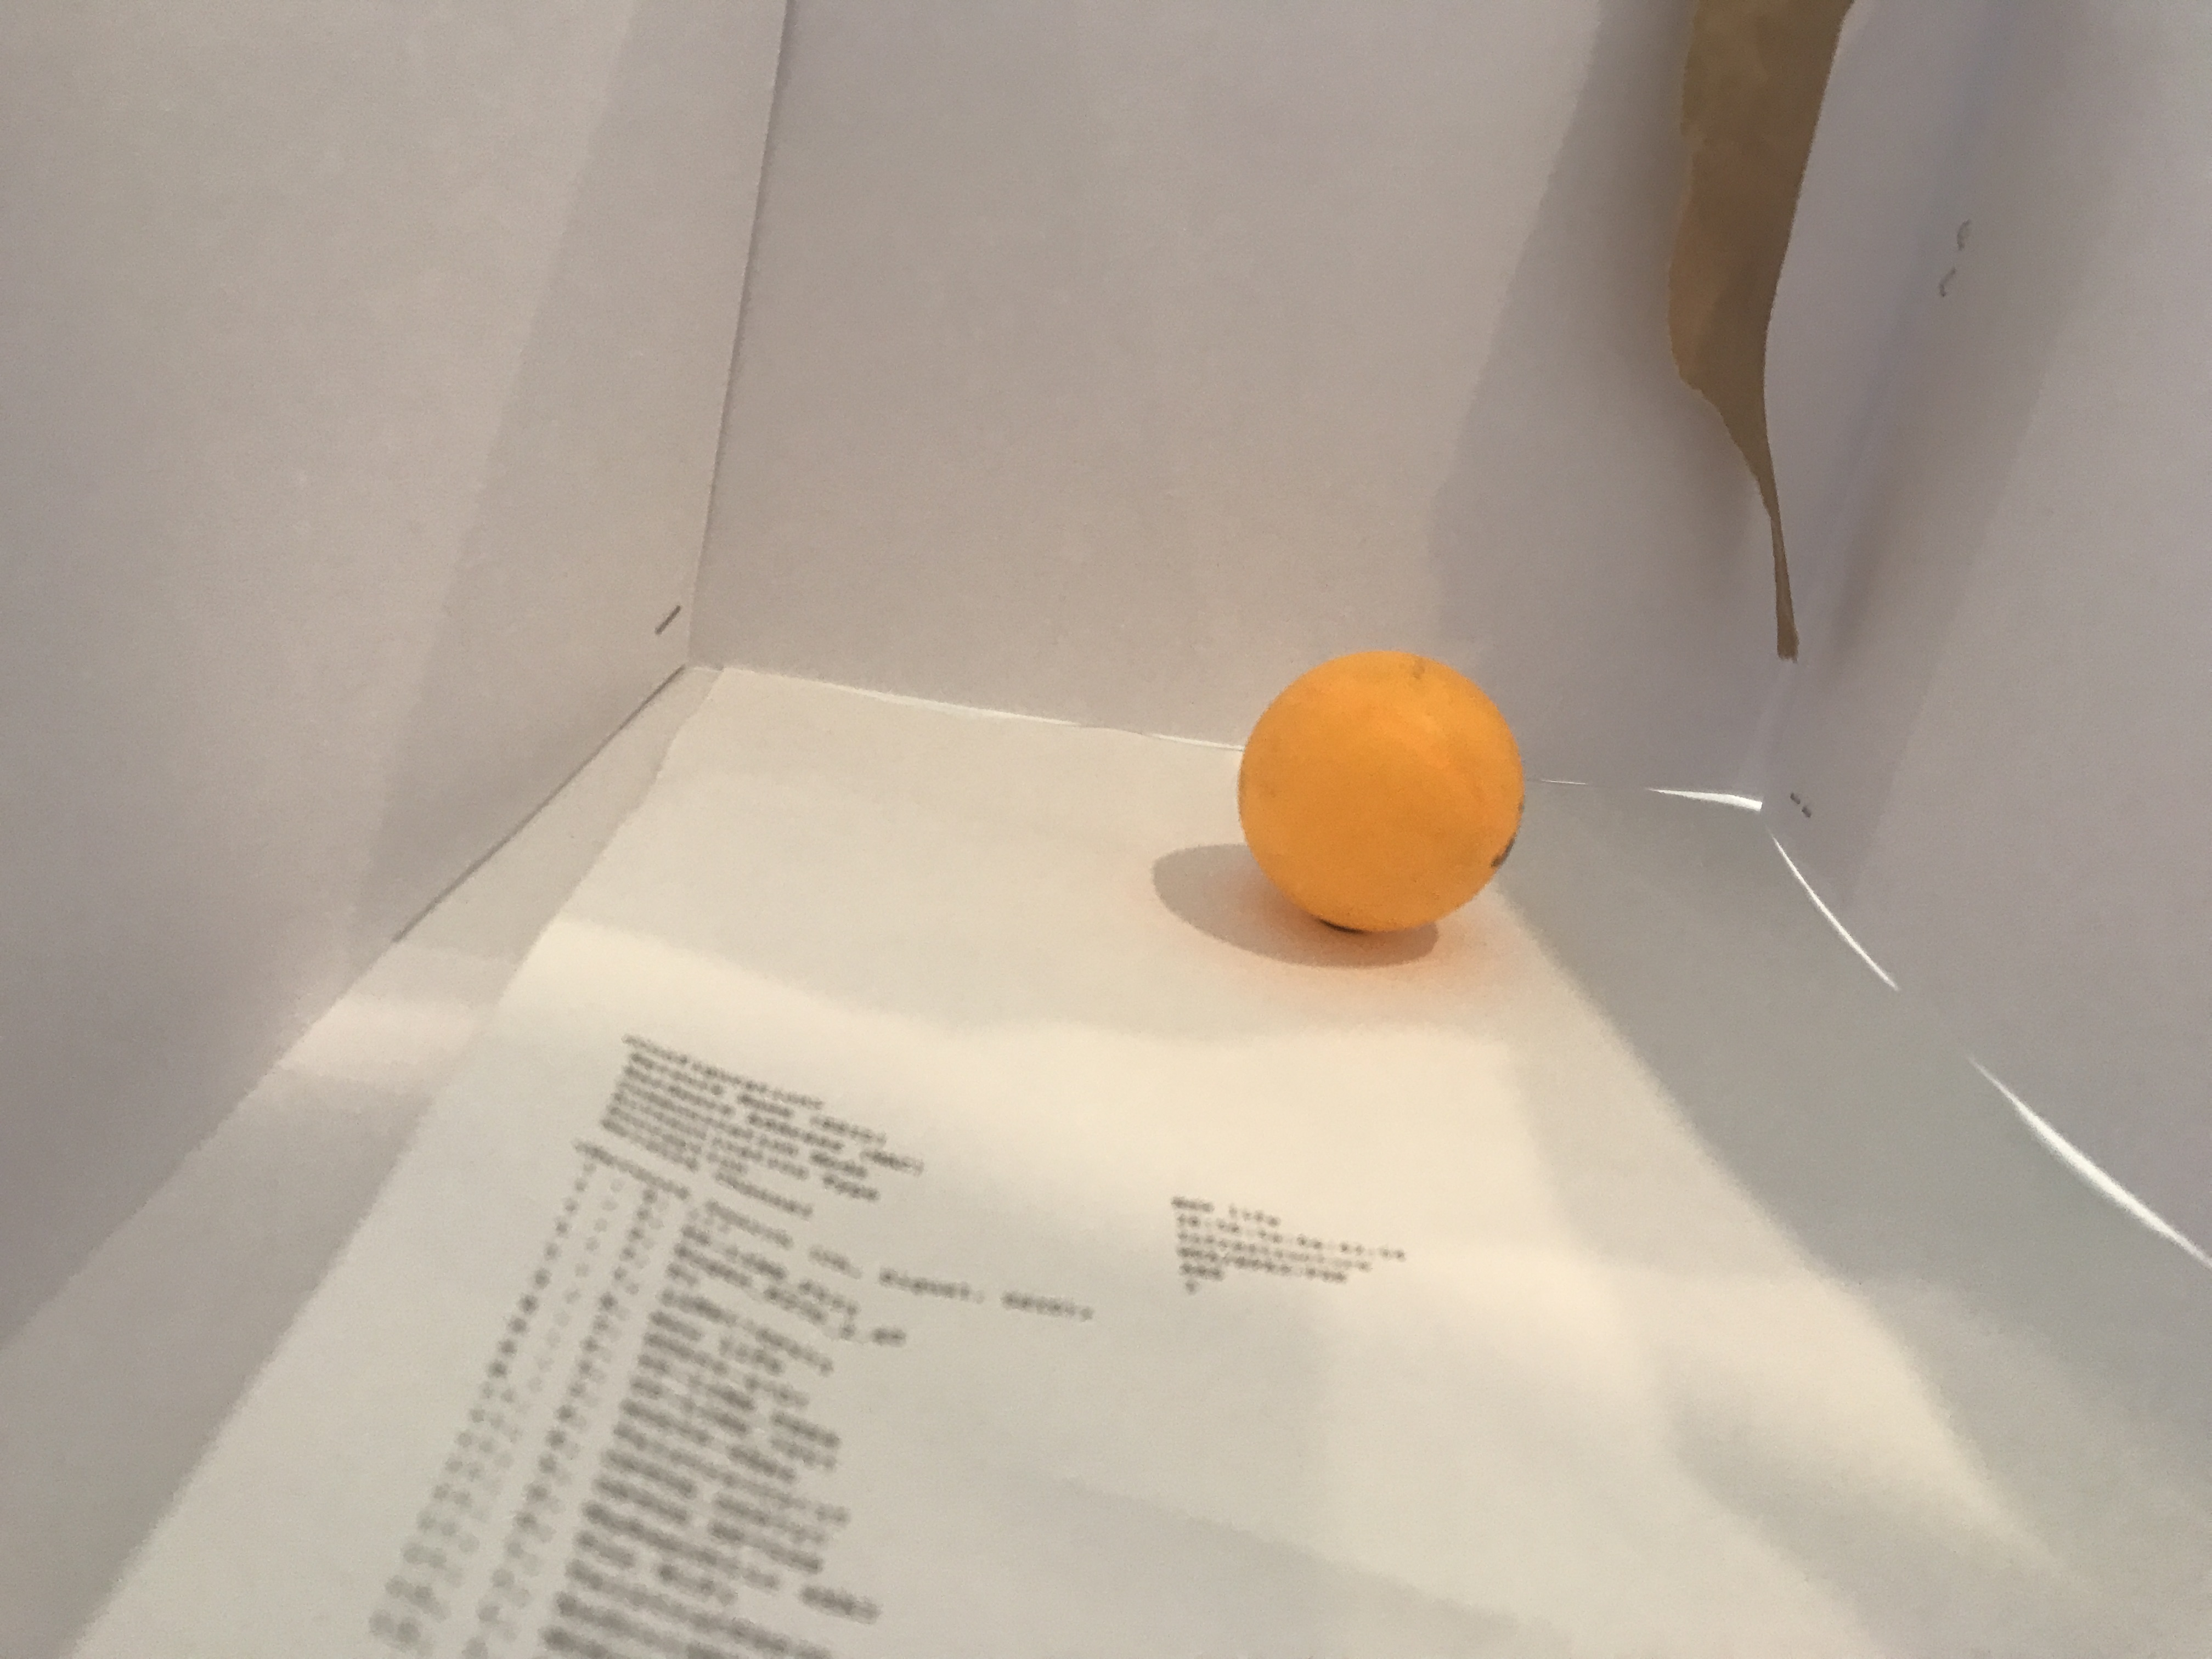pp: (1211, 627, 1538, 945)
